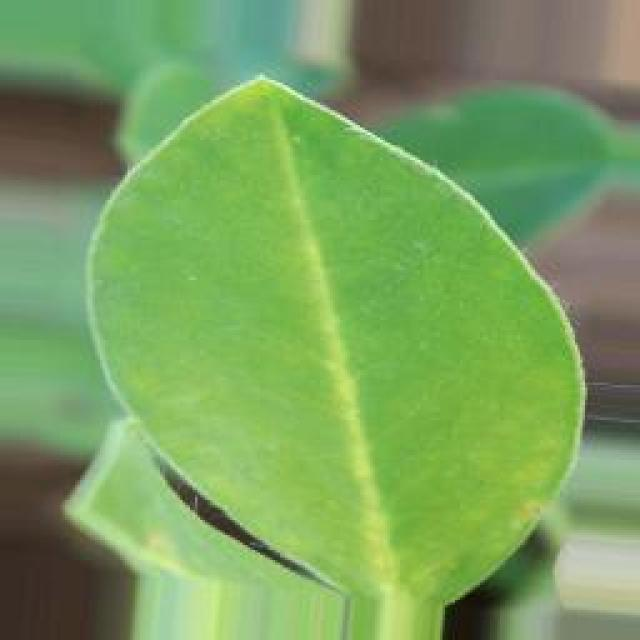Yellow_and_black_sigatoka: (80, 67, 586, 631)
